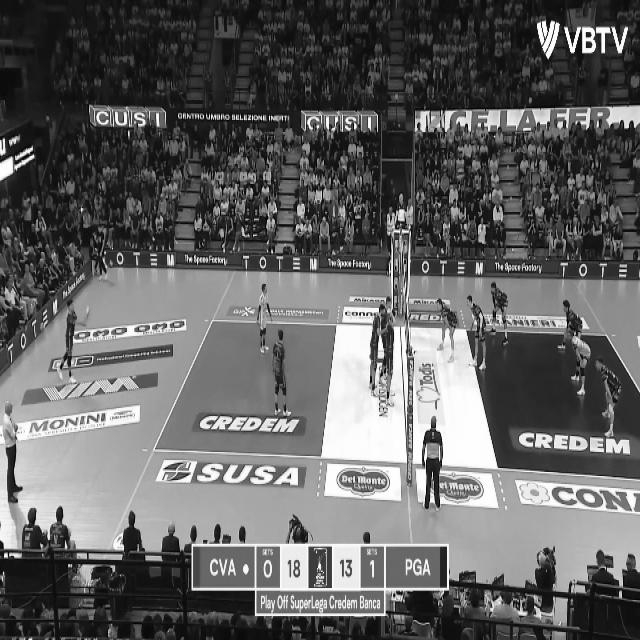volleyball court: (156, 319, 639, 482)
